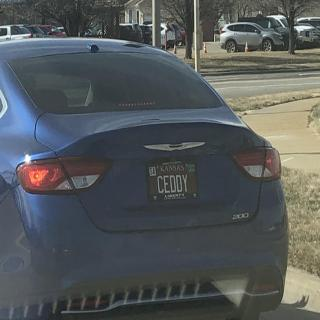license: (146, 157, 201, 204)
